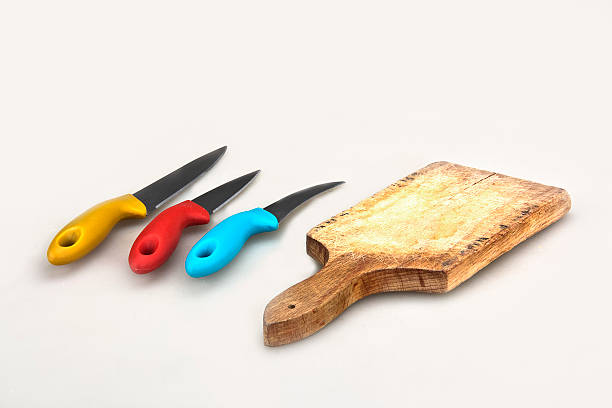knife: (44, 144, 227, 268), (183, 178, 346, 281), (127, 166, 262, 276)
